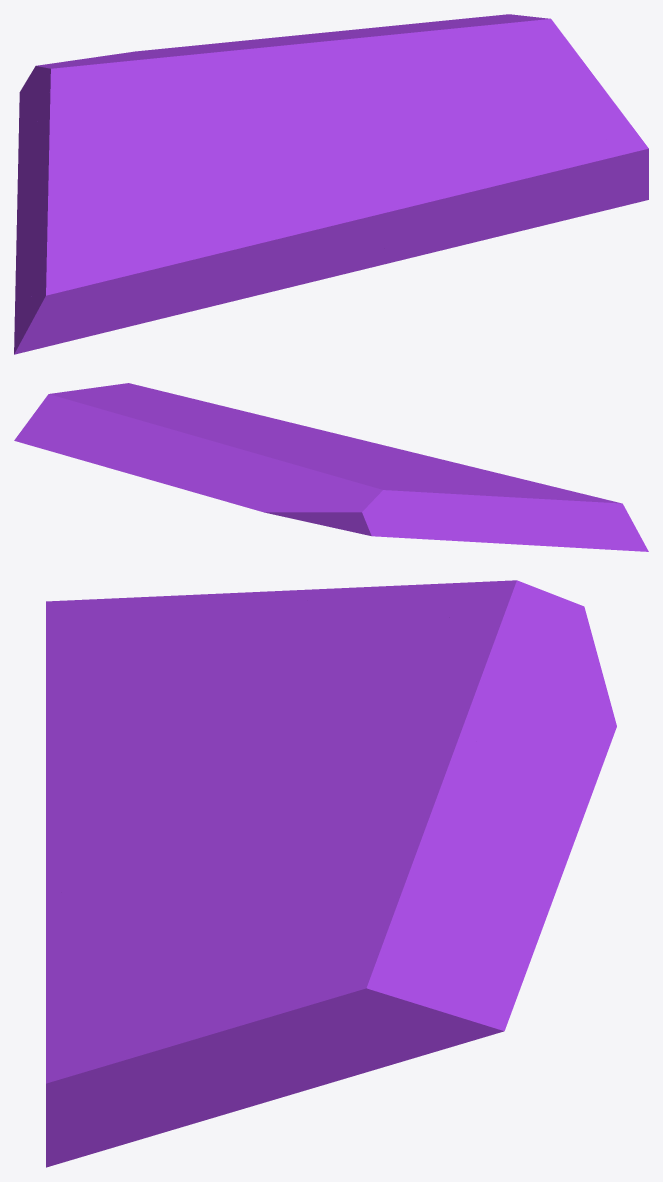
Rendered from Window_15_1_chunks.fbx.
3 renders of one model, top to bottom at view 1: azimuth 30°, elevation 25°; view 2: azimuth 150°, elevation 25°; view 3: azimuth 270°, elevation 25°, orthographic. The views are drawn at different scales.
Visible parts, largest first — view 1: Window_15_1_12, Window_15_1_11, Window_15_1_6, Window_15_1_16, Window_15_1_13, Window_15_1_5, Window_15_1_4, Window_15_1_17, Window_15_1_0, Window_15_1_21, Window_15_1_3, Window_15_1_7 (+4 smaller); view 2: Window_15_1_4, Window_15_1_21, Window_15_1_12, Window_15_1_1, Window_15_1_0, Window_15_1_7, Window_15_1_6, Window_15_1_20, Window_15_1_13, Window_15_1_3, Window_15_1_10, Window_15_1_5 (+5 smaller); view 3: Window_15_1_4, Window_15_1_6, Window_15_1_12, Window_15_1_13, Window_15_1_5, Window_15_1_11, Window_15_1_0, Window_15_1_17, Window_15_1_1, Window_15_1_3, Window_15_1_16, Window_15_1_7 (+3 smaller).
Boxes of the visible parts, left/top/right/bottom form: Window_15_1_12: left=26, top=150, right=239, bottom=332; Window_15_1_11: left=194, top=128, right=378, bottom=310; Window_15_1_6: left=391, top=50, right=638, bottom=156; Window_15_1_16: left=374, top=150, right=558, bottom=266; Window_15_1_13: left=36, top=90, right=299, bottom=168; Window_15_1_5: left=289, top=57, right=418, bottom=269; Window_15_1_4: left=352, top=14, right=574, bottom=78; Window_15_1_17: left=540, top=136, right=648, bottom=221; Window_15_1_0: left=95, top=46, right=244, bottom=103; Window_15_1_21: left=14, top=161, right=76, bottom=354; Window_15_1_3: left=236, top=34, right=373, bottom=83; Window_15_1_7: left=18, top=61, right=134, bottom=166; Window_15_1_4: left=14, top=391, right=201, bottom=467; Window_15_1_21: left=477, top=491, right=648, bottom=551; Window_15_1_12: left=400, top=464, right=638, bottom=533; Window_15_1_1: left=108, top=438, right=241, bottom=502; Window_15_1_0: left=230, top=454, right=357, bottom=502; Window_15_1_7: left=336, top=475, right=450, bottom=540; Window_15_1_6: left=68, top=384, right=265, bottom=427; Window_15_1_20: left=427, top=484, right=494, bottom=543; Window_15_1_13: left=299, top=447, right=441, bottom=513; Window_15_1_3: left=152, top=428, right=278, bottom=464; Window_15_1_10: left=231, top=485, right=336, bottom=520; Window_15_1_5: left=200, top=426, right=349, bottom=448; Window_15_1_4: left=246, top=828, right=546, bottom=1102; Window_15_1_6: left=77, top=862, right=321, bottom=1076; Window_15_1_12: left=46, top=592, right=316, bottom=756; Window_15_1_13: left=228, top=582, right=470, bottom=792; Window_15_1_5: left=46, top=782, right=388, bottom=894; Window_15_1_11: left=46, top=721, right=265, bottom=867; Window_15_1_0: left=361, top=616, right=601, bottom=767; Window_15_1_17: left=46, top=994, right=262, bottom=1167; Window_15_1_1: left=453, top=753, right=601, bottom=916; Window_15_1_3: left=347, top=731, right=494, bottom=862; Window_15_1_16: left=46, top=892, right=145, bottom=1009; Window_15_1_7: left=429, top=580, right=586, bottom=652.
Bounding box in the file's own units: 1299 × 267 × 618.
